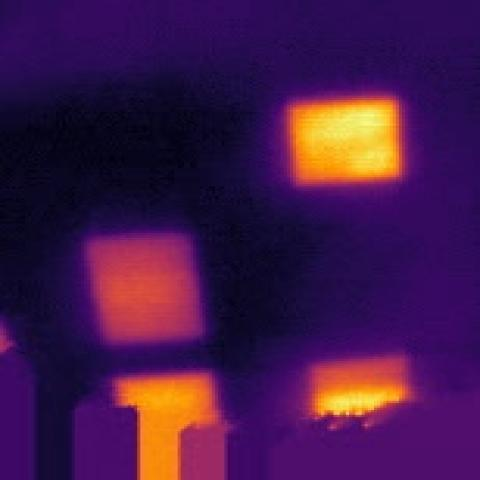fault: (74, 229, 216, 348), (278, 94, 409, 188), (100, 366, 238, 441), (302, 349, 415, 426)
